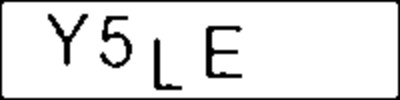5: (95, 13, 137, 70)
E: (199, 22, 254, 83)
L: (149, 33, 187, 93)
Y: (43, 10, 90, 70)
